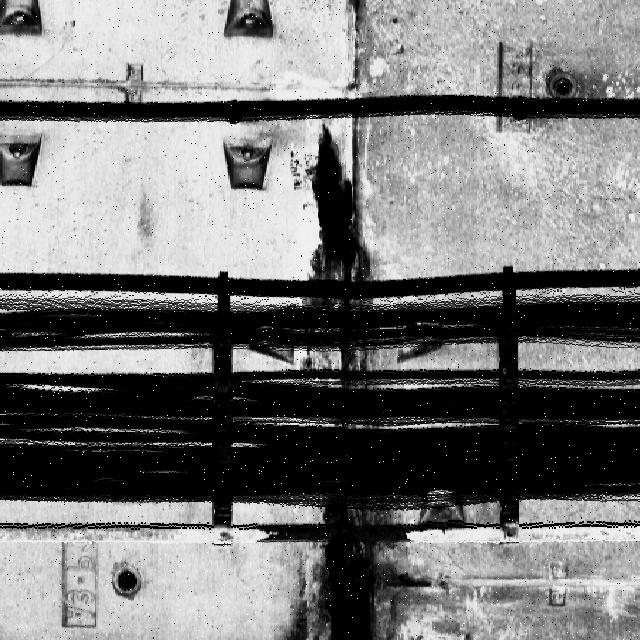leakage: (291, 122, 390, 371), (282, 498, 431, 639)
